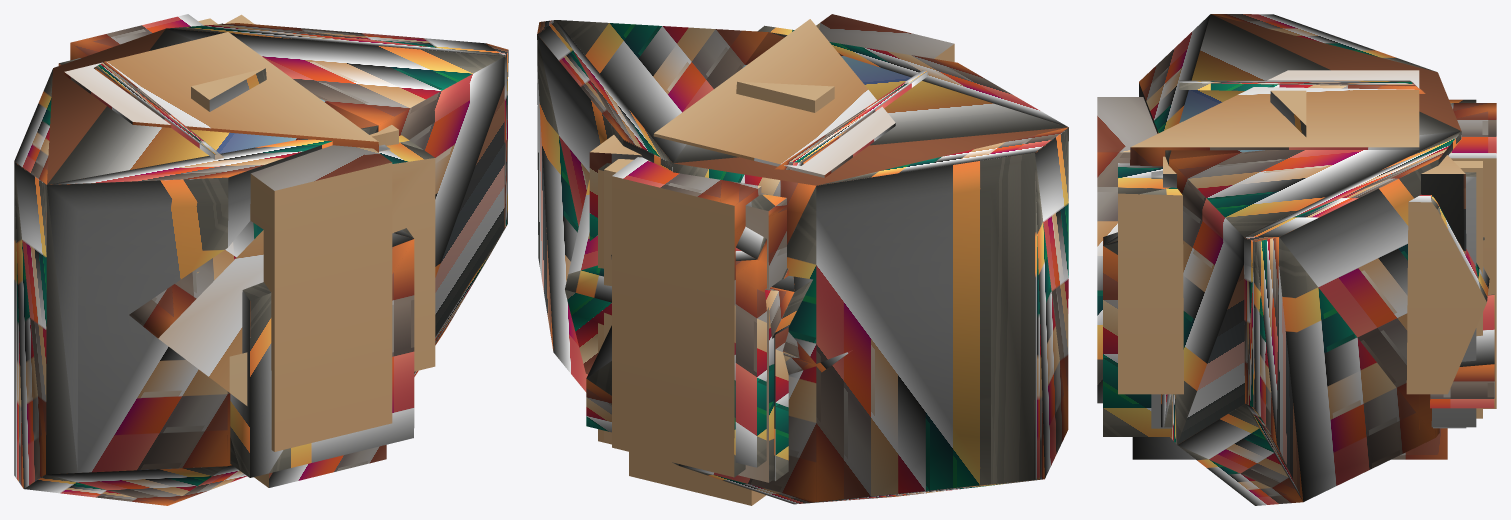
File: rootnode_001_chunks.glb
The picture shows the model from 3 angles, left to right: view 1: azimuth 30°, elevation 25°; view 2: azimuth 150°, elevation 25°; view 3: azimuth 270°, elevation 25°; orthographic projection. The views are drawn at different scales.
Visible parts, largest first — view 1: box_A.004_cell.017, box_A.004_cell.003, box_A.004_cell.013, box_A.004_cell.011, box_A.004_cell.009, box_A.004_cell.016, box_A.004_cell.015, box_A.004_cell.020, box_A.004_cell.004, box_A.004_cell.006; view 2: box_A.004_cell.017, box_A.004_cell.015, box_A.004_cell.011, box_A.004_cell.004, box_A.004_cell.013, box_A.004_cell.010, box_A.004_cell.003, box_A.004_cell.016, box_A.004_cell, box_A.004_cell.020, box_A.004_cell.007, box_A.004_cell.006 (+1 smaller); view 3: box_A.004_cell.017, box_A.004_cell.013, box_A.004_cell.011, box_A.004_cell.003, box_A.004_cell.004, box_A.004_cell.009, box_A.004_cell.015, box_A.004_cell.006, box_A.004_cell.010, box_A.004_cell.016, box_A.004_cell.012, box_A.004_cell.020 (+1 smaller).
Boxes of the visible parts, x1,y1,x2,y2 form: box_A.004_cell.017: (14,23,508,505); box_A.004_cell.003: (250,145,392,451); box_A.004_cell.013: (129,135,435,405); box_A.004_cell.011: (64,32,378,152); box_A.004_cell.009: (230,228,414,477); box_A.004_cell.016: (254,445,386,487); box_A.004_cell.015: (70,14,203,60); box_A.004_cell.020: (191,68,266,111); box_A.004_cell.004: (94,61,224,159); box_A.004_cell.006: (225,14,398,145); box_A.004_cell.017: (537,20,1068,504); box_A.004_cell.015: (612,157,761,477); box_A.004_cell.011: (653,19,895,177); box_A.004_cell.004: (586,70,927,467); box_A.004_cell.013: (565,25,852,374); box_A.004_cell.010: (598,163,786,482); box_A.004_cell.003: (816,14,954,61); box_A.004_cell.016: (629,452,765,505); box_A.004_cell: (772,268,788,480); box_A.004_cell.020: (736,81,834,112); box_A.004_cell.007: (611,254,812,338); box_A.004_cell.006: (589,135,642,240); box_A.004_cell.017: (1139,14,1461,505); box_A.004_cell.013: (1118,163,1489,394); box_A.004_cell.011: (1130,70,1419,166); box_A.004_cell.003: (1097,97,1157,403); box_A.004_cell.004: (1179,80,1494,408); box_A.004_cell.009: (1103,232,1171,436); box_A.004_cell.015: (1448,103,1496,408); box_A.004_cell.006: (1163,155,1466,255); box_A.004_cell.010: (1161,99,1476,427); box_A.004_cell.016: (1132,428,1447,459); box_A.004_cell.012: (1453,161,1482,418); box_A.004_cell.020: (1270,90,1306,136).
Bounding box in the file's own units: 0.1704 × 0.1301 × 0.1263.
Materials: 1 (1 with a texture image).
